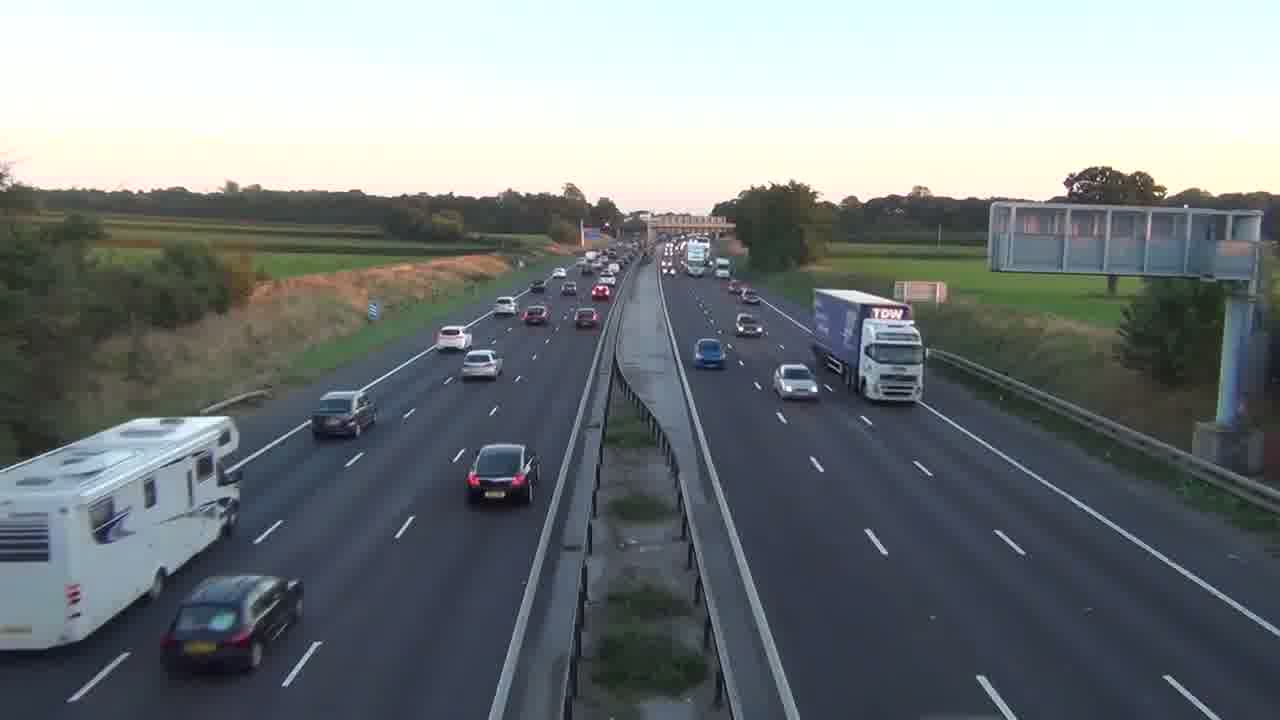car: (160, 573, 305, 674), (464, 442, 542, 505), (312, 387, 376, 440), (772, 363, 819, 401), (460, 349, 502, 382), (693, 337, 727, 370), (735, 313, 767, 338), (573, 306, 600, 330)
truck: (0, 414, 244, 652), (810, 287, 927, 405)
